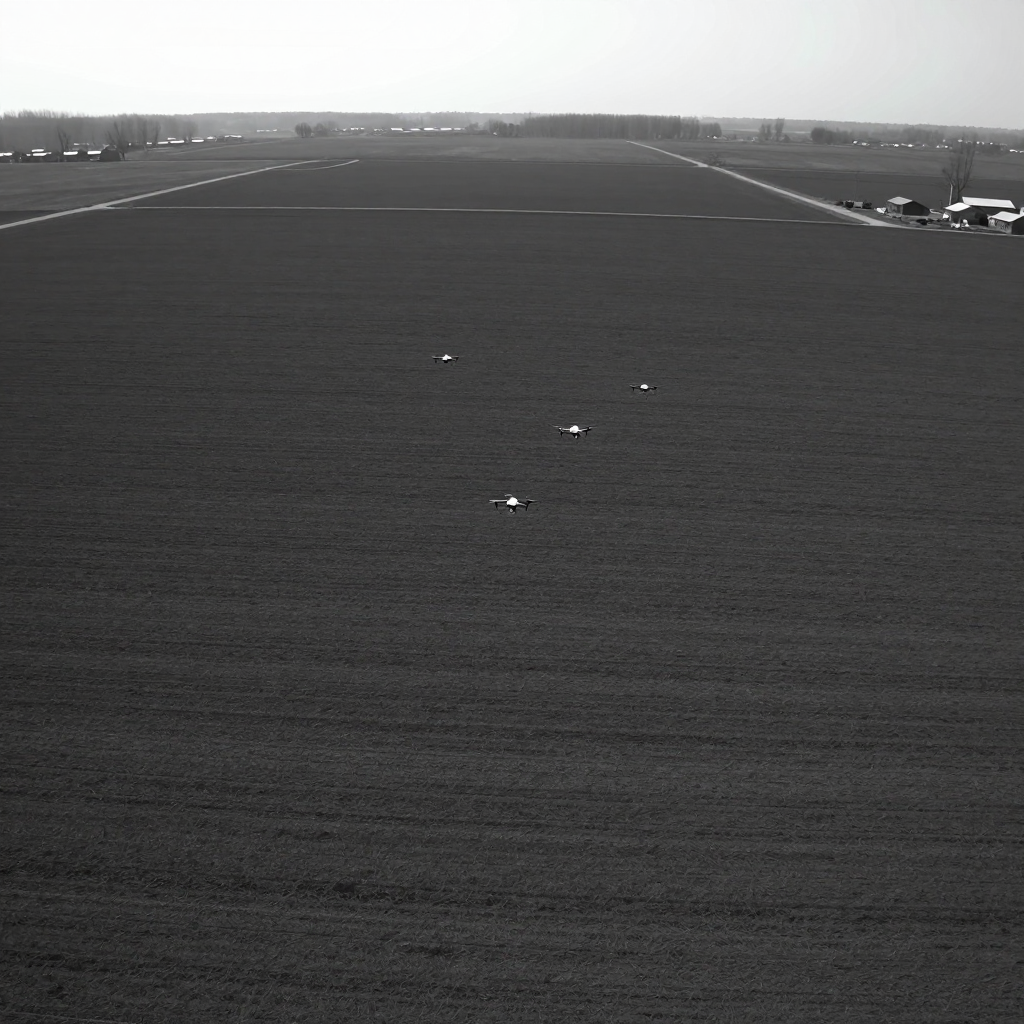drone: (550, 424, 593, 439), (512, 496, 536, 514), (488, 494, 512, 512), (431, 354, 459, 364), (629, 384, 658, 393)
